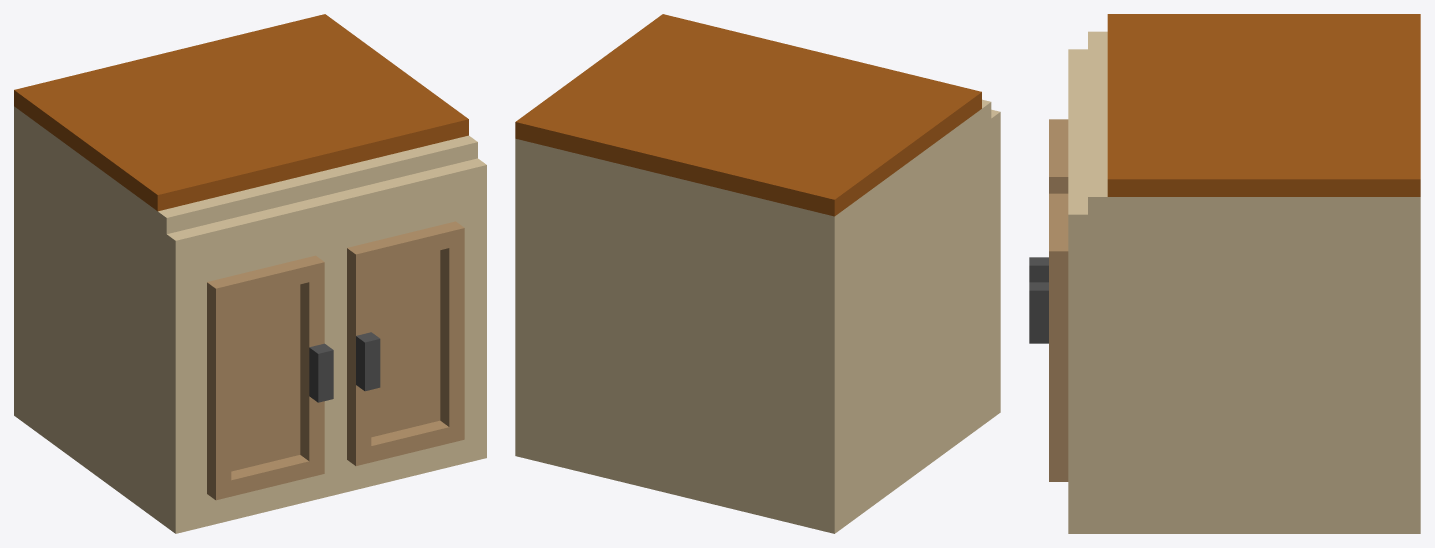
The model's file is Kitchen_TableV1.obj.
3 views of the same model, side by side, from view 1: azimuth 30°, elevation 25°; view 2: azimuth 150°, elevation 25°; view 3: azimuth 270°, elevation 25° (orthographic). The views are drawn at different scales.
Size of the model in its own units: 2 by 2 by 2.
1 material, 1 textured.
